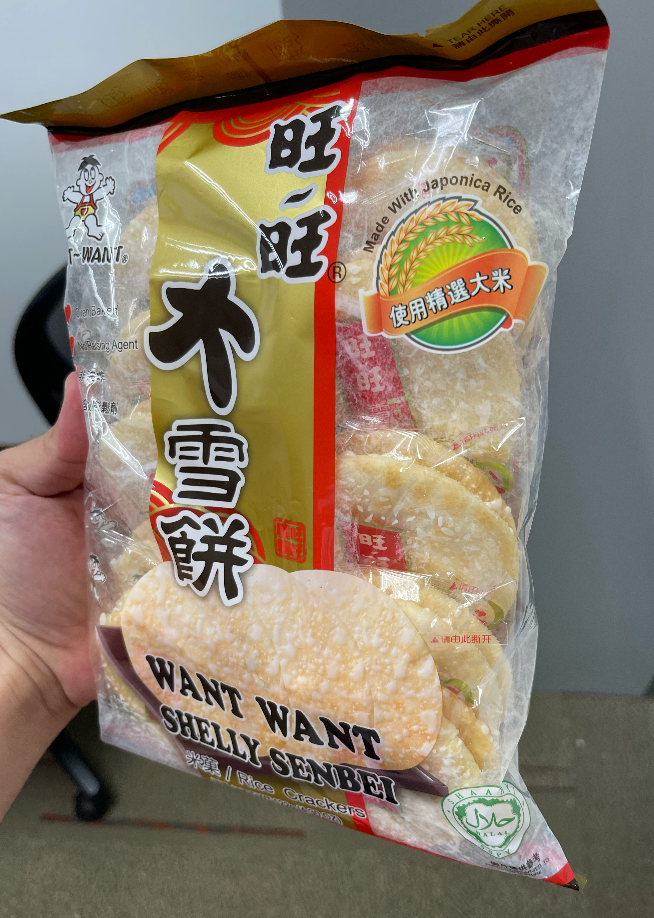crackers_100g-199g: (96, 123, 559, 855)
